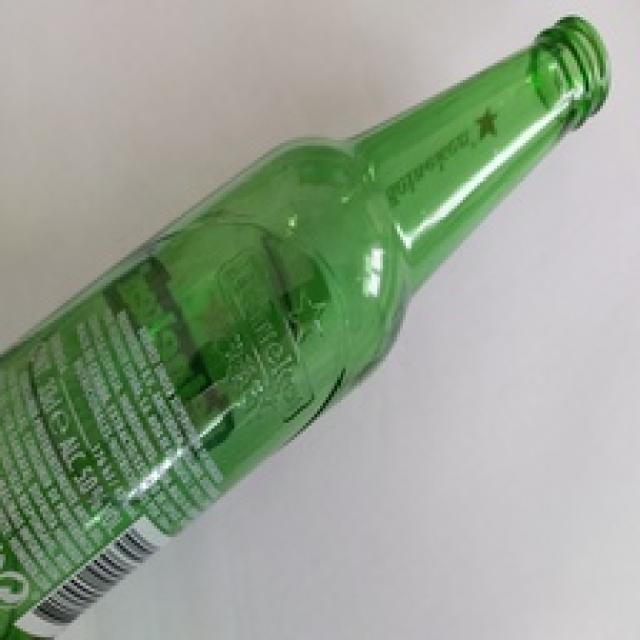Glass: (0, 16, 612, 640)
